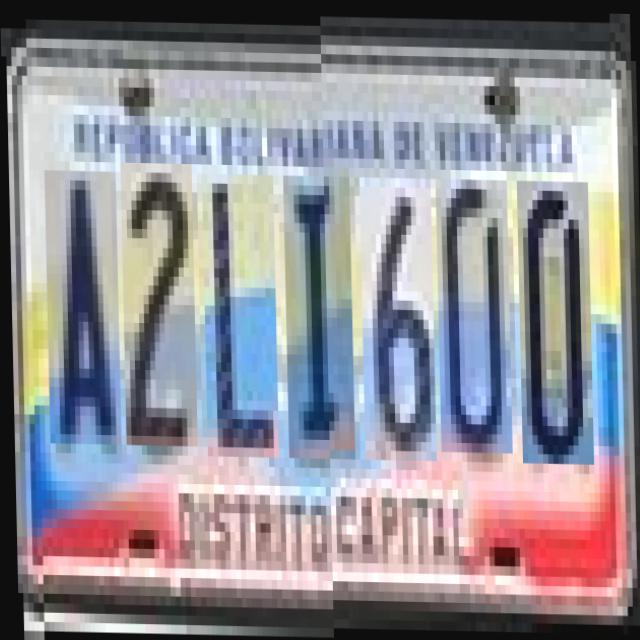0: (516, 178, 592, 462), (435, 177, 511, 451)
2: (120, 152, 196, 436)
6: (358, 176, 434, 460)
A: (43, 161, 119, 435)
I: (282, 164, 354, 448)
L: (201, 163, 277, 447)
